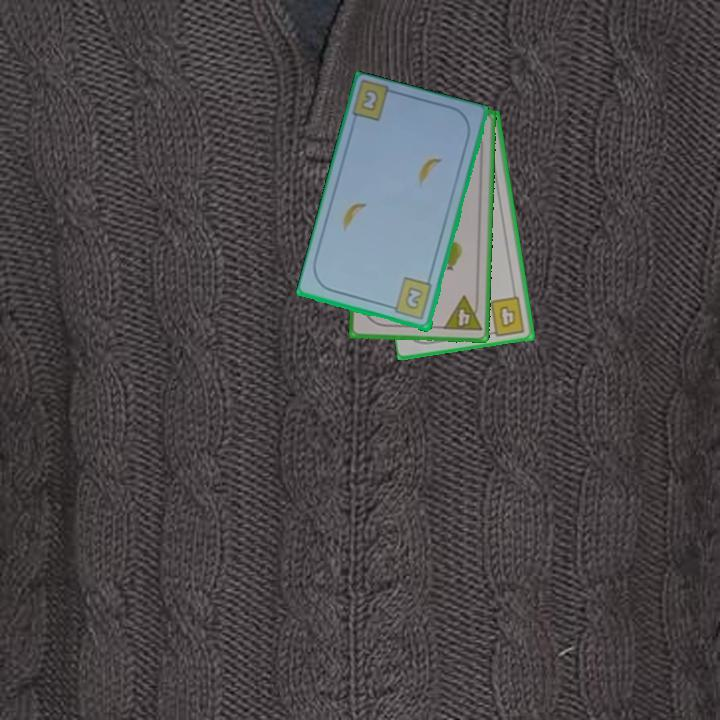2b: (386, 275, 435, 323), (357, 86, 382, 115)
4b: (485, 293, 528, 339)
4p: (440, 293, 484, 334)
